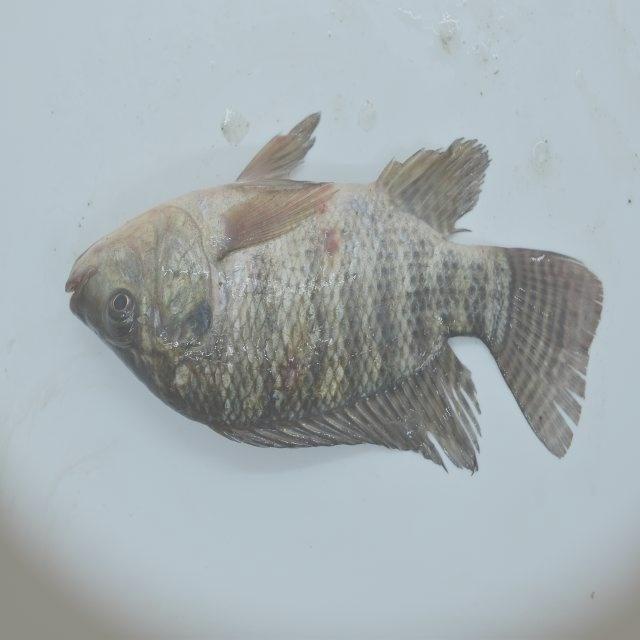Columnaris Disease: (38, 111, 623, 478)
